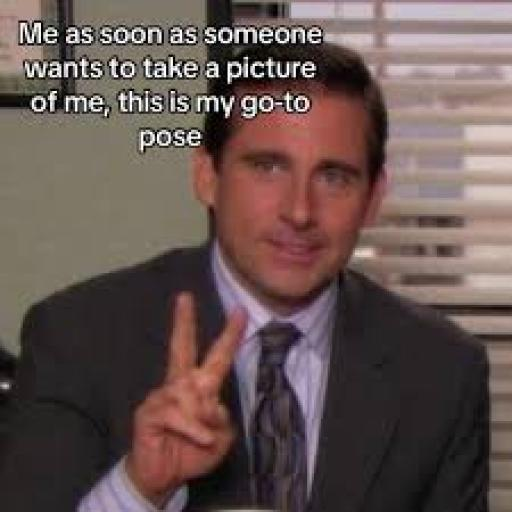Peace: (109, 280, 282, 498)
